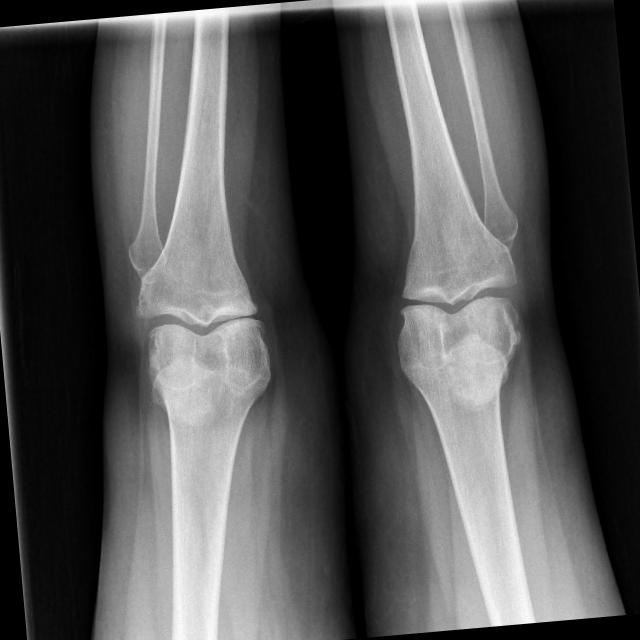Knee: (128, 246, 275, 403), (385, 235, 526, 378)
